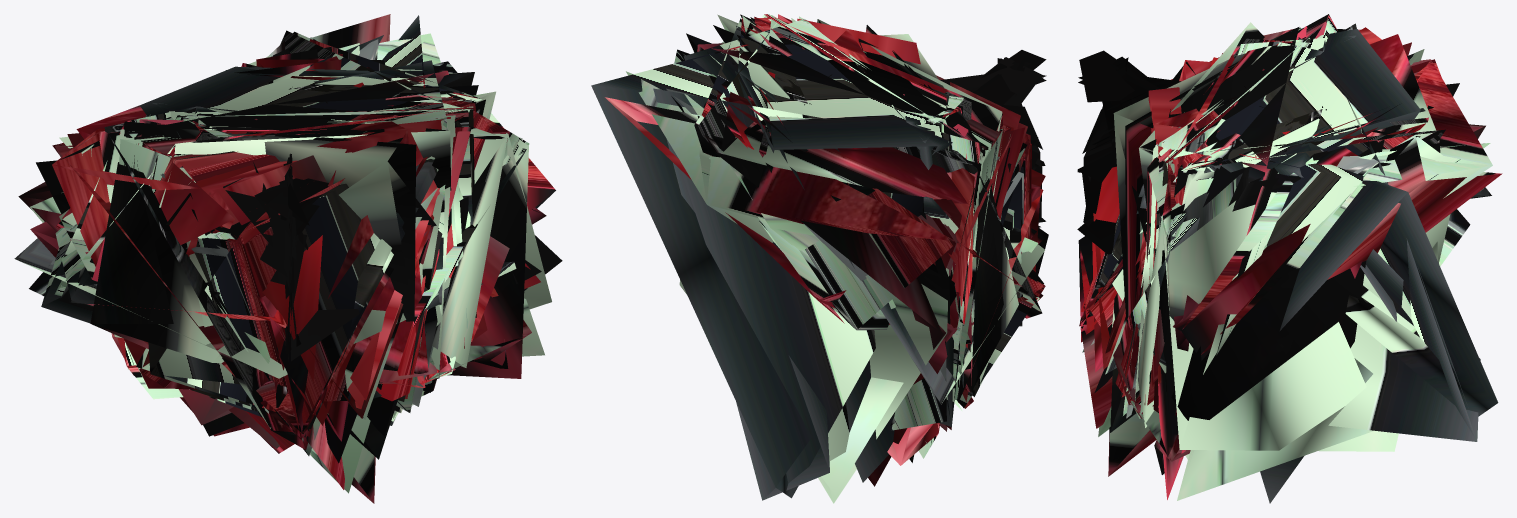
The model's file is carroVerde.gltf.
3 views of the same model, side by side, from view 1: azimuth 30°, elevation 25°; view 2: azimuth 150°, elevation 25°; view 3: azimuth 270°, elevation 25° (orthographic). The views are drawn at different scales.
Visible parts, largest first — view 1: frontWheelLeft_1, car01, windows; view 2: frontWheelLeft_1, car01; view 3: frontWheelLeft_1, car01, windows.
Part boxes in pixels (box(x1,y1,x2,y2)): frontWheelLeft_1: box(14, 14, 562, 503); car01: box(254, 87, 359, 361); windows: box(223, 153, 298, 290); frontWheelLeft_1: box(591, 14, 1048, 503); car01: box(804, 50, 1046, 227); frontWheelLeft_1: box(1078, 14, 1502, 503); car01: box(1077, 50, 1326, 254); windows: box(1082, 61, 1195, 153).
Bounding box in the file's own units: 2.37 × 1.93 × 1.93.
Materials: 2 (1 with a texture image).
